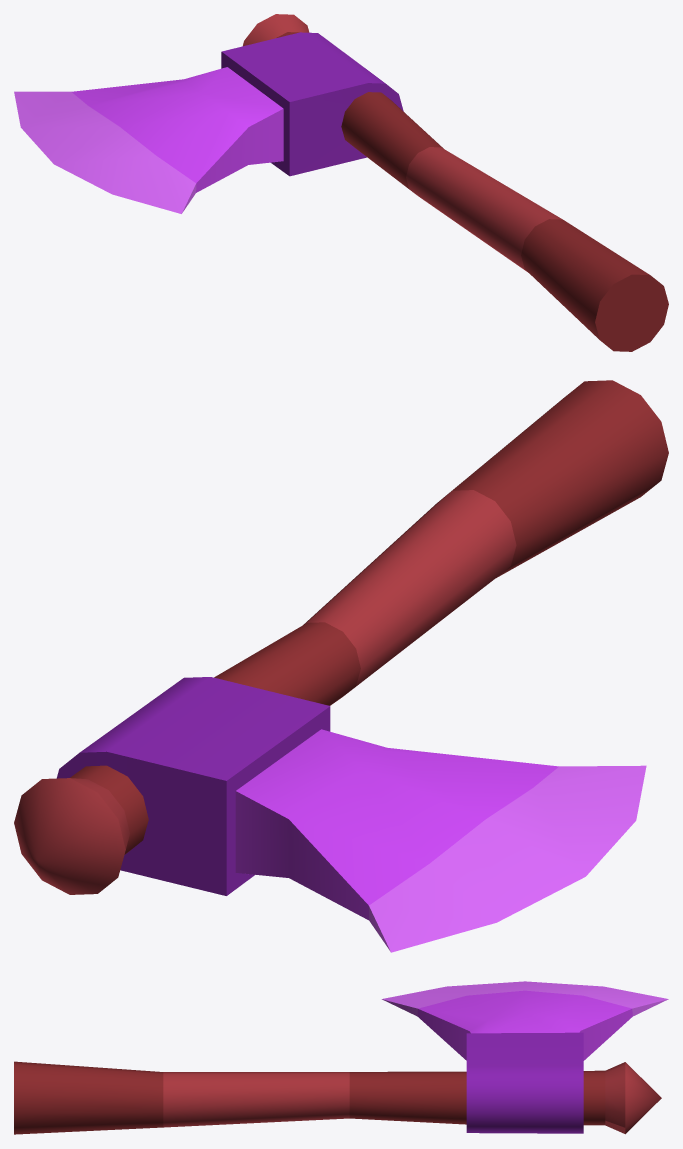
Rendered from Axe.fbx.
3 views of the same model, one above another, from view 1: azimuth 30°, elevation 25°; view 2: azimuth 150°, elevation 25°; view 3: azimuth 270°, elevation 25° (orthographic). The views are drawn at different scales.
Visible parts, largest first — view 1: Axe; view 2: Axe; view 3: Axe.
Part boxes in pixels (x1,y1,x2,y2): Axe: (14,14,668,351); Axe: (14,380,668,952); Axe: (14,981,668,1134).
Size of the model in its own units: 1.46 by 0.3412 by 3.05.
Materials: 1 (1 with a texture image).
